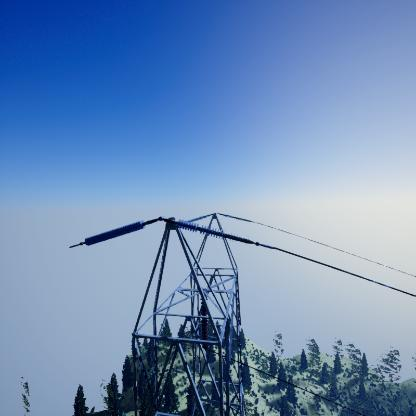insulator: (176, 219, 247, 244), (85, 220, 145, 245)
